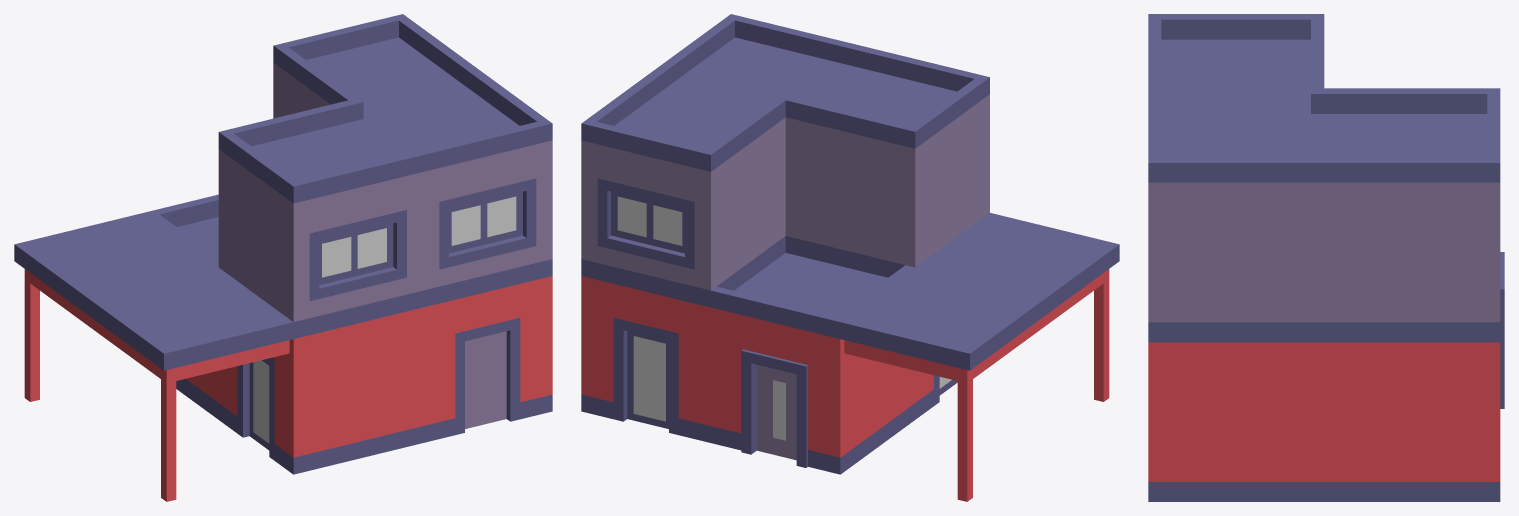
File: htype19.glb
3 renders of one model, left to right at view 1: azimuth 30°, elevation 25°; view 2: azimuth 150°, elevation 25°; view 3: azimuth 270°, elevation 25°, orthographic. The views are drawn at different scales.
Parts seen in each view (by area): view 1: house_type19 -convcol; view 2: house_type19 -convcol; view 3: house_type19 -convcol.
Boxes of the visible parts, left/top/right/bottom form: house_type19 -convcol: left=14, top=14, right=552, bottom=501; house_type19 -convcol: left=581, top=14, right=1119, bottom=501; house_type19 -convcol: left=1148, top=14, right=1504, bottom=501.
Size of the model in its own units: 18 by 12.75 by 12.15.
